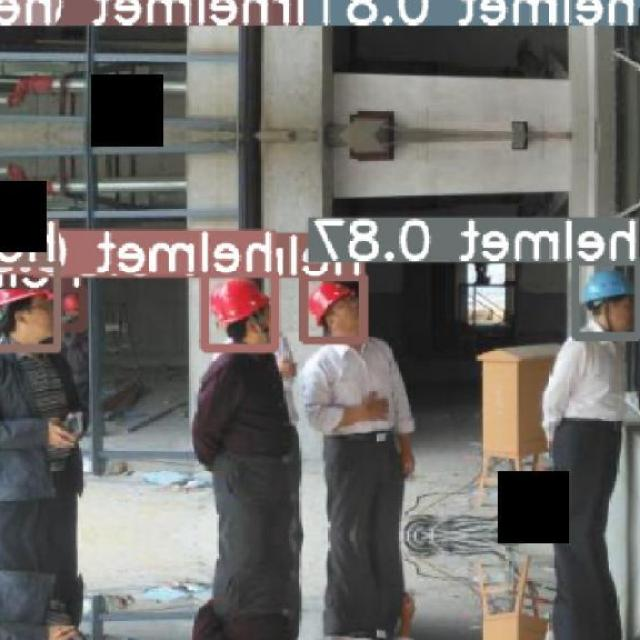helmet: (210, 277, 271, 323), (309, 281, 357, 326), (581, 269, 635, 307), (0, 285, 55, 308)
